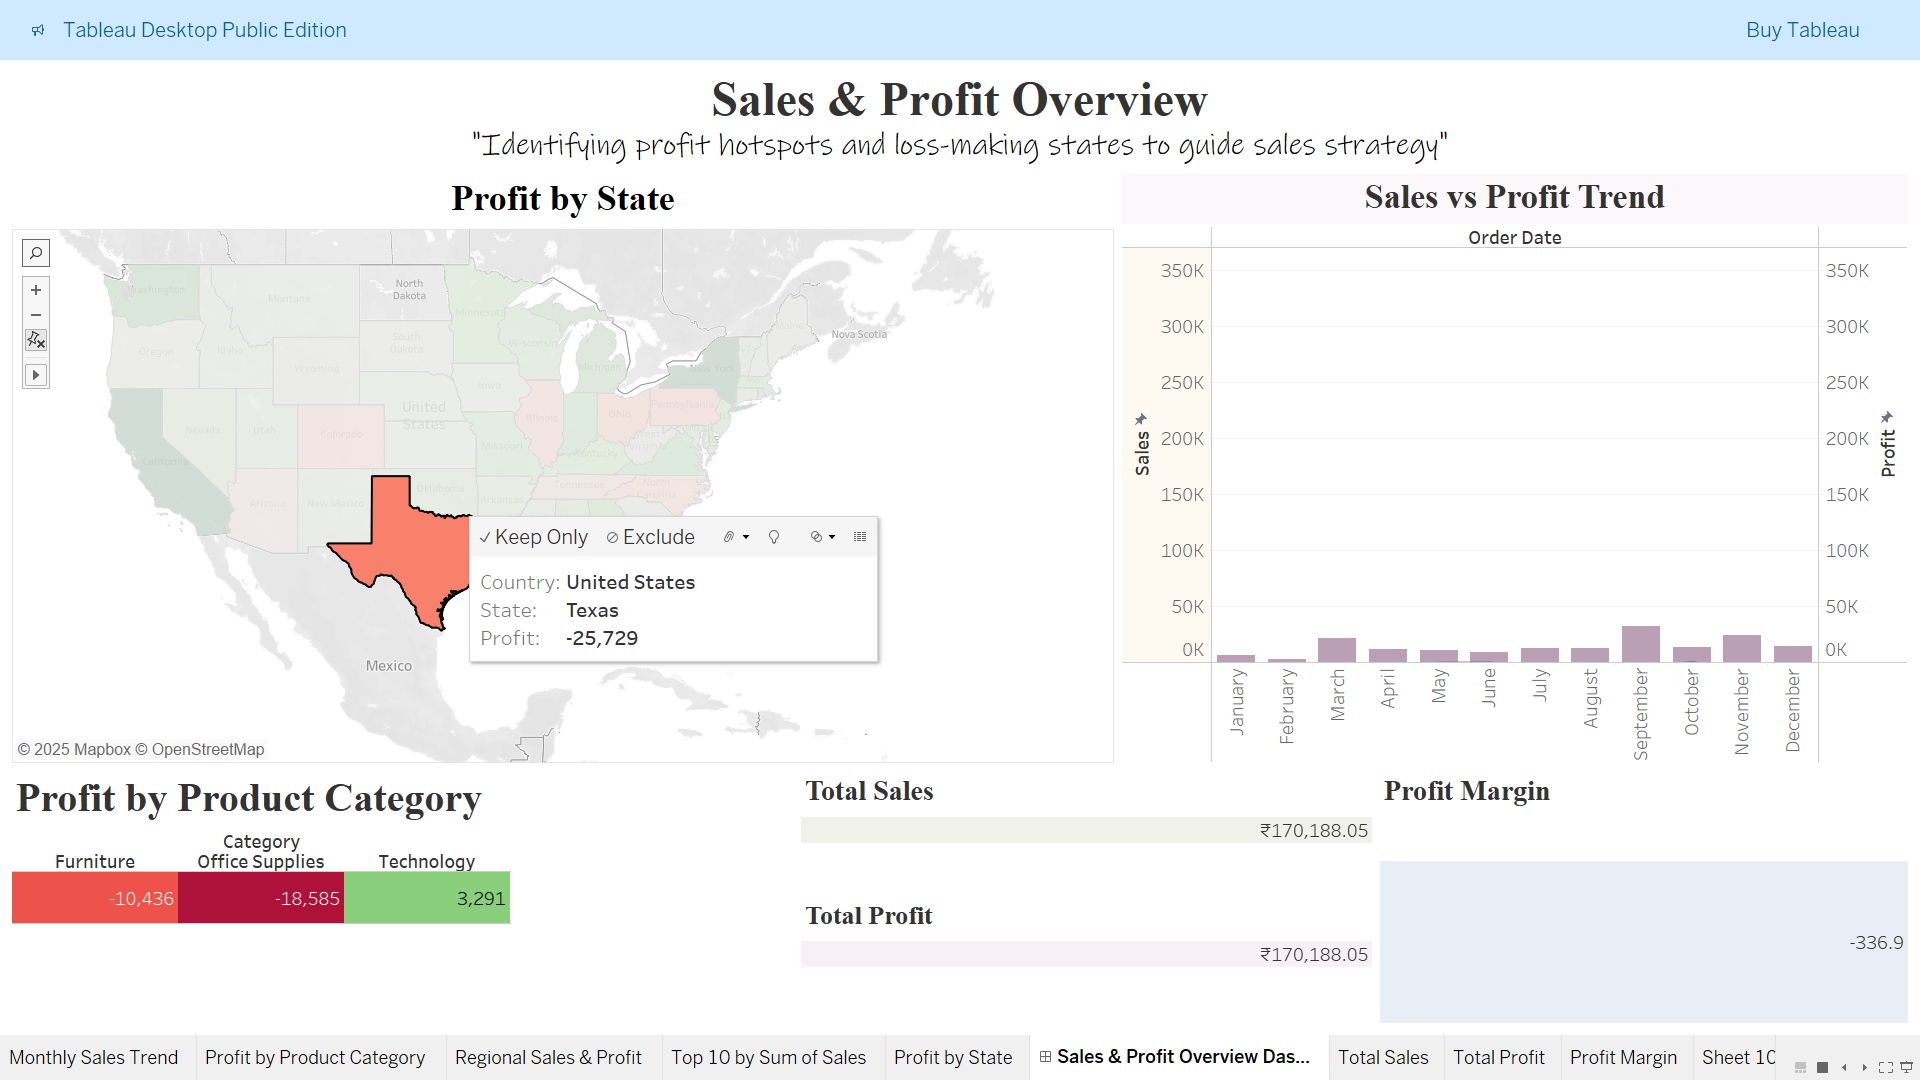

What the dashboard file says about the page in this screenshot:
{"tool":"tableau","page":{"name":"Sales & Profit Overview Dashboard","canvas":[1000,1000],"units":"permille","ordinal":0},"visuals":[{"type":"title","box":[5.1,11.6,989.8,147.4]},{"type":"worksheet","title":"Profit by State","mark":"Automatic","box":[5.1,159,577.1,578]},{"type":"worksheet","title":"Monthly Sales Trend","mark":"Line","rows":["Sales","Profit"],"cols":["Order Date"],"box":[582.1,159,412.8,578]},{"type":"worksheet","title":"Profit by Product Category","mark":"Automatic","cols":["Category"],"box":[5.1,736.9,410,251.5]},{"type":"worksheet","title":"Total Sales","mark":"Automatic","box":[415.1,736.9,301.1,121.4]},{"type":"worksheet","title":"Profit Margin","mark":"Automatic","box":[716.1,736.9,278.8,251.5]},{"type":"worksheet","title":"Total Profit","mark":"Automatic","box":[415.1,858.3,301.1,130.2]}]}

Visuals, with their boxes on the dashboard's canvas, which has no fixed pixel size, in thousandths of its width and height (x1, y1, x2, y2). These are canvas units, not pixel positions in the 1920x1080 screenshot, which may show the page scaled, cropped or inside an application window:
title: [left=5, top=12, right=995, bottom=159]
"Profit by State" worksheet: [left=5, top=159, right=582, bottom=737]
"Monthly Sales Trend" worksheet (Line marks): [left=582, top=159, right=995, bottom=737]
"Profit by Product Category" worksheet: [left=5, top=737, right=415, bottom=988]
"Total Sales" worksheet: [left=415, top=737, right=716, bottom=858]
"Profit Margin" worksheet: [left=716, top=737, right=995, bottom=988]
"Total Profit" worksheet: [left=415, top=858, right=716, bottom=988]
